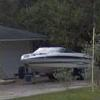Boat: (13, 39, 91, 84)
